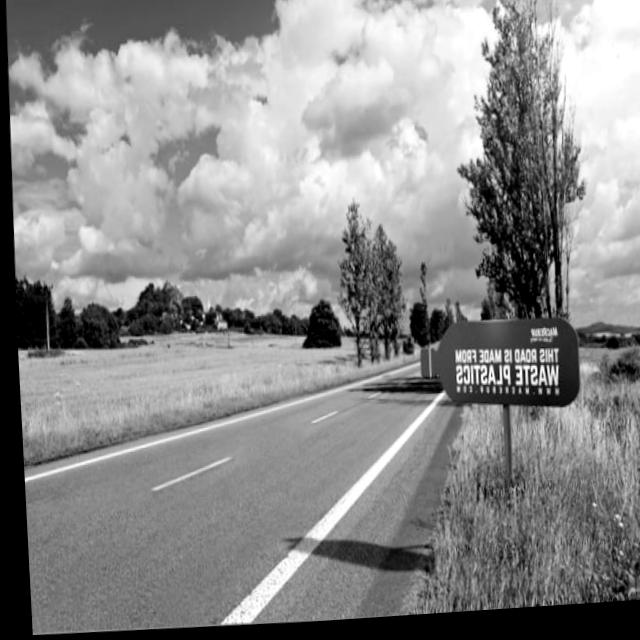cleat: (12, 274, 541, 634)
